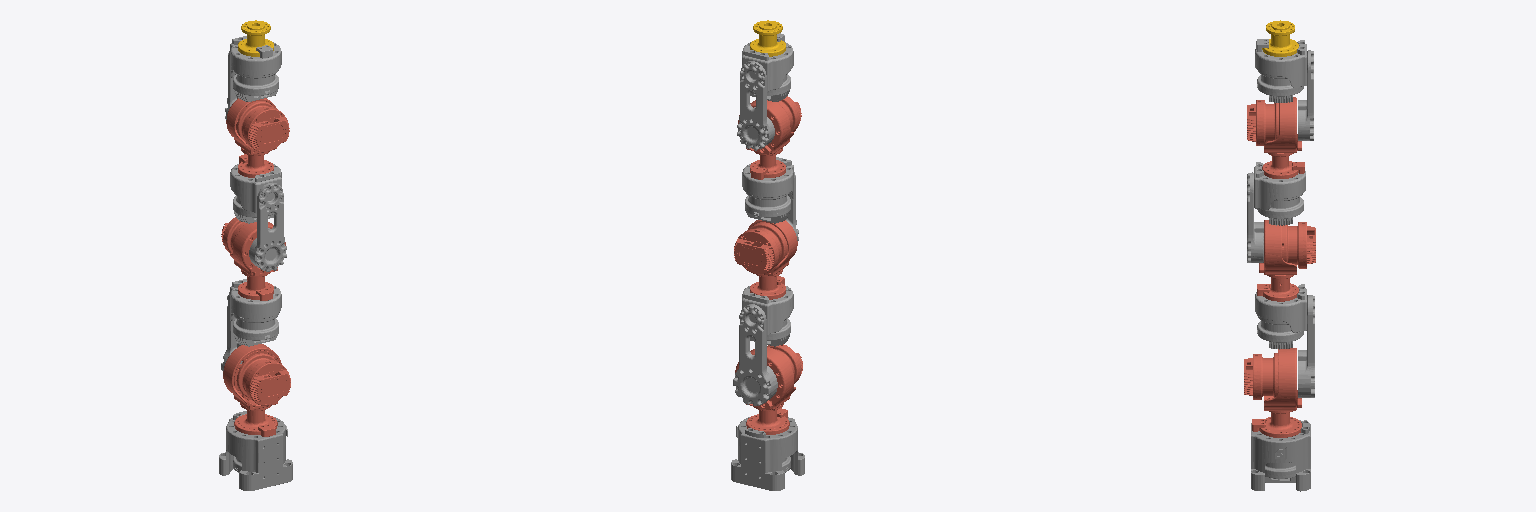
The robot description file, URDF, robot "product_b1":
<?xml version="1.0" encoding="utf-8"?>
<robot
  name="product_b1">
  <link
    name="base_link">
    <inertial>
      <origin
        xyz="6.237E-05 0.00031998 0.048235"
        rpy="0 0 0" />
      <mass
        value="0.26734" />
      <inertia
        ixx="0.00029777"
        ixy="5.8953E-08"
        ixz="-3.3641E-08"
        iyy="0.00024467"
        iyz="2.2995E-07"
        izz="0.00035934" />
    </inertial>
    <visual>
      <origin
        xyz="0 0 0"
        rpy="0 0 0" />
      <geometry>
        <mesh
          filename="meshes/base_link.STL" />
      </geometry>
      <material
        name="">
        <color
          rgba="0.62745 0.62745 0.62745 1" />
      </material>
    </visual>
    <collision>
      <origin
        xyz="0 0 0"
        rpy="0 0 0" />
      <geometry>
        <mesh
          filename="meshes/base_link.STL" />
      </geometry>
    </collision>
  </link>
  <link
    name="link1">
    <inertial>
      <origin
        xyz="-7.1956E-05 -0.0006525 0.065648"
        rpy="0 0 0" />
      <mass
        value="0.2539" />
      <inertia
        ixx="0.00013206"
        ixy="-1.112E-07"
        ixz="5.8071E-08"
        iyy="0.00021227"
        iyz="-7.2775E-06"
        izz="0.00013113" />
    </inertial>
    <visual>
      <origin
        xyz="0 0 0"
        rpy="0 0 0" />
      <geometry>
        <mesh
          filename="meshes/link1.STL" />
      </geometry>
      <material
        name="">
        <color
          rgba="0.83922 0.44706 0.38431 1" />
      </material>
    </visual>
    <collision>
      <origin
        xyz="0 0 0"
        rpy="0 0 0" />
      <geometry>
        <mesh
          filename="meshes/link1.STL" />
      </geometry>
    </collision>
  </link>
  <joint
    name="joint1"
    type="revolute">
    <origin
      xyz="0 0 0.082"
      rpy="0 0 0" />
    <parent
      link="base_link" />
    <child
      link="link1" />
    <axis
      xyz="0 0 1" />
    <limit
      lower="-2.4435"
      upper="2.4435"
      effort="100"
      velocity="10" />
  </joint>
  <link
    name="link2">
    <inertial>
      <origin
        xyz="5.7141E-05 0.080805 -0.0071326"
        rpy="0 0 0" />
      <mass
        value="0.26004" />
      <inertia
        ixx="0.00027467"
        ixy="1.0052E-07"
        ixz="9.7156E-08"
        iyy="0.00015654"
        iyz="-3.0164E-06"
        izz="0.00029313" />
    </inertial>
    <visual>
      <origin
        xyz="0 0 0"
        rpy="0 0 0" />
      <geometry>
        <mesh
          filename="meshes/link2.STL" />
      </geometry>
      <material
        name="">
        <color
          rgba="0.66667 0.66667 0.66667 1" />
      </material>
    </visual>
    <collision>
      <origin
        xyz="0 0 0"
        rpy="0 0 0" />
      <geometry>
        <mesh
          filename="meshes/link2.STL" />
      </geometry>
    </collision>
  </link>
  <joint
    name="joint2"
    type="revolute">
    <origin
      xyz="0 0.025 0.0865"
      rpy="1.5708 0 3.1416" />
    <parent
      link="link1" />
    <child
      link="link2" />
    <axis
      xyz="0 0 1" />
    <limit
      lower="-2.3213"
      upper="2.3213"
      effort="100"
      velocity="10" />
  </joint>
  <link
    name="link3">
    <inertial>
      <origin
        xyz="7.536E-05 0.00081876 0.06767"
        rpy="0 0 0" />
      <mass
        value="0.19745" />
      <inertia
        ixx="8.8302E-05"
        ixy="-1.0051E-07"
        ixz="-9.7553E-08"
        iyy="0.00014017"
        iyz="5.8084E-06"
        izz="8.488E-05" />
    </inertial>
    <visual>
      <origin
        xyz="0 0 0"
        rpy="0 0 0" />
      <geometry>
        <mesh
          filename="meshes/link3.STL" />
      </geometry>
      <material
        name="">
        <color
          rgba="0.83922 0.44706 0.38431 1" />
      </material>
    </visual>
    <collision>
      <origin
        xyz="0 0 0"
        rpy="0 0 0" />
      <geometry>
        <mesh
          filename="meshes/link3.STL" />
      </geometry>
    </collision>
  </link>
  <joint
    name="joint3"
    type="revolute">
    <origin
      xyz="0 0.1364 -0.025"
      rpy="1.5708 0 3.1416" />
    <parent
      link="link2" />
    <child
      link="link3" />
    <axis
      xyz="0 0 1" />
    <limit
      lower="-2.2863"
      upper="2.2863"
      effort="100"
      velocity="10" />
  </joint>
  <link
    name="link4">
    <inertial>
      <origin
        xyz="5.5658E-05 0.075812 -0.010096"
        rpy="0 0 0" />
      <mass
        value="0.2255" />
      <inertia
        ixx="0.00018432"
        ixy="9.341E-08"
        ixz="9.3583E-08"
        iyy="0.00014008"
        iyz="5.464E-09"
        izz="0.00019346" />
    </inertial>
    <visual>
      <origin
        xyz="0 0 0"
        rpy="0 0 0" />
      <geometry>
        <mesh
          filename="meshes/link4.STL" />
      </geometry>
      <material
        name="">
        <color
          rgba="0.66667 0.66667 0.66667 1" />
      </material>
    </visual>
    <collision>
      <origin
        xyz="0 0 0"
        rpy="0 0 0" />
      <geometry>
        <mesh
          filename="meshes/link4.STL" />
      </geometry>
    </collision>
  </link>
  <joint
    name="joint4"
    type="revolute">
    <origin
      xyz="0 -0.025 0.0811"
      rpy="1.5708 0 0" />
    <parent
      link="link3" />
    <child
      link="link4" />
    <axis
      xyz="0 0 1" />
    <limit
      lower="-2.2863"
      upper="2.2863"
      effort="100"
      velocity="10" />
  </joint>
  <link
    name="link5">
    <inertial>
      <origin
        xyz="-6.47608224975801E-05 -0.000135644729966451 0.0681146474008698"
        rpy="0 0 0" />
      <mass
        value="0.188342091601826" />
      <inertia
        ixx="8.57208499432024E-05"
        ixy="-9.36285319821068E-08"
        ixz="9.3610025889588E-08"
        iyy="0.000135395618146542"
        iyz="-5.79908404802222E-06"
        izz="8.20376711496822E-05" />
    </inertial>
    <visual>
      <origin
        xyz="0 0 0"
        rpy="0 0 0" />
      <geometry>
        <mesh
          filename="meshes/link5.STL" />
      </geometry>
      <material
        name="">
        <color
          rgba="0.83921568627451 0.447058823529412 0.384313725490196 1" />
      </material>
    </visual>
    <collision>
      <origin
        xyz="0 0 0"
        rpy="0 0 0" />
      <geometry>
        <mesh
          filename="meshes/link5.STL" />
      </geometry>
    </collision>
  </link>
  <joint
    name="joint5"
    type="revolute">
    <origin
      xyz="0 0.121 -0.025"
      rpy="-1.5708 0 0" />
    <parent
      link="link4" />
    <child
      link="link5" />
    <axis
      xyz="0 0 1" />
    <limit
      lower="-2.2863"
      upper="2.2863"
      effort="100"
      velocity="10" />
  </joint>
  <link
    name="link6">
    <inertial>
      <origin
        xyz="-5.3512302833054E-05 -0.0764997090438678 -0.0106346714964407"
        rpy="0 0 0" />
      <mass
        value="0.228014101529845" />
      <inertia
        ixx="0.000184226138693011"
        ixy="9.34105969132088E-08"
        ixz="-9.35833296390346E-08"
        iyy="0.000140231791267273"
        iyz="-9.86104029565552E-09"
        izz="0.000193377959750286" />
    </inertial>
    <visual>
      <origin
        xyz="0 0 0"
        rpy="0 0 0" />
      <geometry>
        <mesh
          filename="meshes/link6.STL" />
      </geometry>
      <material
        name="">
        <color
          rgba="0.666666666666667 0.666666666666667 0.666666666666667 1" />
      </material>
    </visual>
    <collision>
      <origin
        xyz="0 0 0"
        rpy="0 0 0" />
      <geometry>
        <mesh
          filename="meshes/link6.STL" />
      </geometry>
    </collision>
  </link>
  <joint
    name="joint6"
    type="revolute">
    <origin
      xyz="0 0.025 0.0811"
      rpy="-1.5708 0 0" />
    <parent
      link="link5" />
    <child
      link="link6" />
    <axis
      xyz="0 0 1" />
    <limit
      lower="-2.2863"
      upper="2.2863"
      effort="100"
      velocity="10" />
  </joint>
  <link
    name="link7">
    <inertial>
      <origin
        xyz="-1.5306E-10 3.6809E-05 0.020162"
        rpy="0 0 0" />
      <mass
        value="0.030725" />
      <inertia
        ixx="9.1931E-06"
        ixy="1.8624E-13"
        ixz="-7.0127E-14"
        iyy="9.217E-06"
        iyz="1.7076E-08"
        izz="8.0903E-06" />
    </inertial>
    <visual>
      <origin
        xyz="0 0 0"
        rpy="0 0 0" />
      <geometry>
        <mesh
          filename="meshes/link7.STL" />
      </geometry>
      <material
        name="">
        <color
          rgba="0.94902 0.75686 0.17647 1" />
      </material>
    </visual>
    <collision>
      <origin
        xyz="0 0 0"
        rpy="0 0 0" />
      <geometry>
        <mesh
          filename="meshes/link7.STL" />
      </geometry>
    </collision>
  </link>
  <joint
    name="joint7"
    type="revolute">
    <origin
      xyz="0 -0.121 -0.025"
      rpy="1.5708 0 0" />
    <parent
      link="link6" />
    <child
      link="link7" />
    <axis
      xyz="0 0 1" />
    <limit
      lower="-314"
      upper="314"
      effort="100"
      velocity="10" />
  </joint>
</robot>

--- Render facts (derived) ---
Views: 3 orthographic renders of the robot side by side, from view 1: azimuth 30°, elevation 25°; view 2: azimuth 150°, elevation 25°; view 3: azimuth 270°, elevation 25°.
Model product_b1 with 8 links and 7 joints (7 revolute), rooted at base_link, posed every joint at zero.
Links seen in each view (by area): view 1: link1, link4, base_link, link5, link2, link6, link3, link7; view 2: link2, link6, base_link, link3, link4, link1, link5, link7; view 3: link1, link2, link6, link3, link4, link5, base_link, link7.
Link boxes in pixels (x1,y1,x2,y2): link1: [223, 344, 290, 436]; link4: [230, 164, 286, 271]; base_link: [219, 411, 292, 490]; link5: [226, 98, 289, 177]; link2: [221, 279, 281, 370]; link6: [225, 36, 281, 119]; link3: [221, 217, 285, 300]; link7: [238, 20, 273, 56]; link2: [733, 286, 793, 405]; link6: [737, 33, 793, 150]; base_link: [731, 417, 804, 490]; link3: [734, 220, 797, 299]; link4: [742, 157, 798, 240]; link1: [735, 344, 802, 434]; link5: [738, 96, 801, 179]; link7: [750, 20, 785, 56]; link1: [1244, 348, 1301, 437]; link2: [1255, 284, 1314, 397]; link6: [1255, 39, 1313, 140]; link3: [1257, 220, 1315, 301]; link4: [1247, 162, 1305, 262]; link5: [1247, 97, 1304, 178]; base_link: [1251, 420, 1310, 491]; link7: [1262, 20, 1298, 56].
Bounding box of the posed robot: 0.0962 × 0.1076 × 0.7502 m (x, y, z).
8 mesh visuals loaded from 8 distinct referenced files (8 binary STL).
